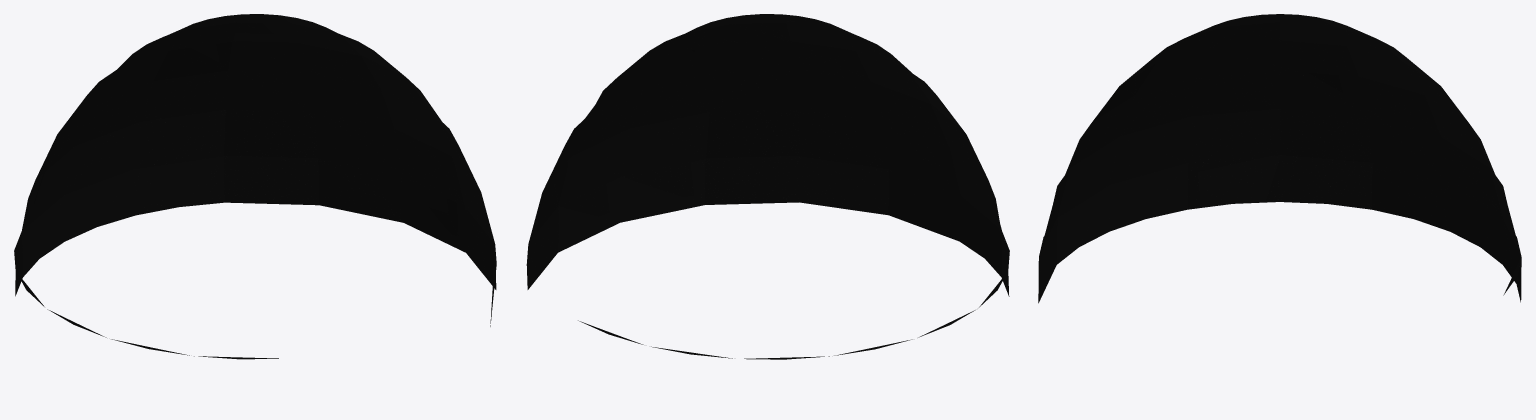
Rendered from skybox.glb.
The picture shows the model from 3 angles, left to right: view 1: azimuth 30°, elevation 25°; view 2: azimuth 150°, elevation 25°; view 3: azimuth 270°, elevation 25°; orthographic projection.
Parts seen in each view (by area): view 1: Sphere; view 2: Sphere; view 3: Sphere.
Part boxes in pixels (x1,y1,x2,y2): Sphere: [14, 14, 496, 359]; Sphere: [526, 14, 1009, 359]; Sphere: [1038, 14, 1521, 303].
Size of the model in its own units: 3.06 by 1.89 by 3.06.
1 material, 1 textured.
